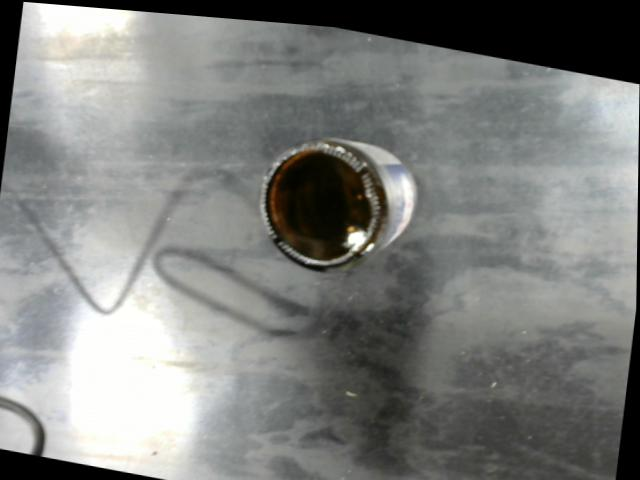glass: (252, 126, 426, 279)
